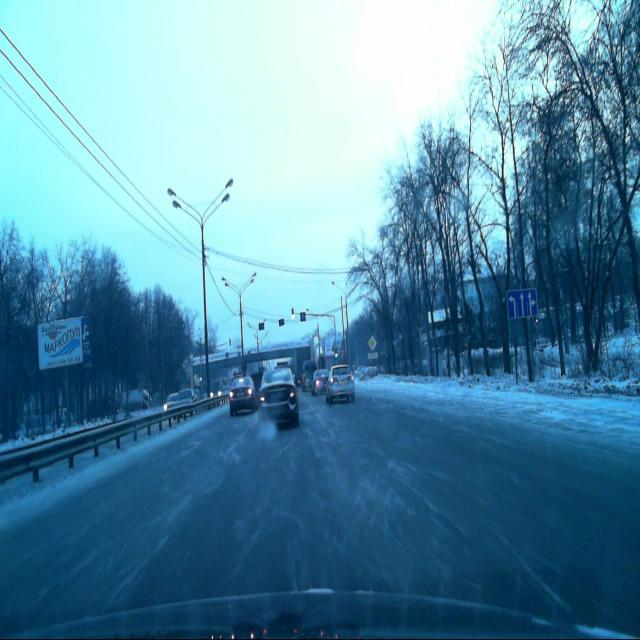road sign: (507, 289, 538, 317), (368, 335, 376, 351)
